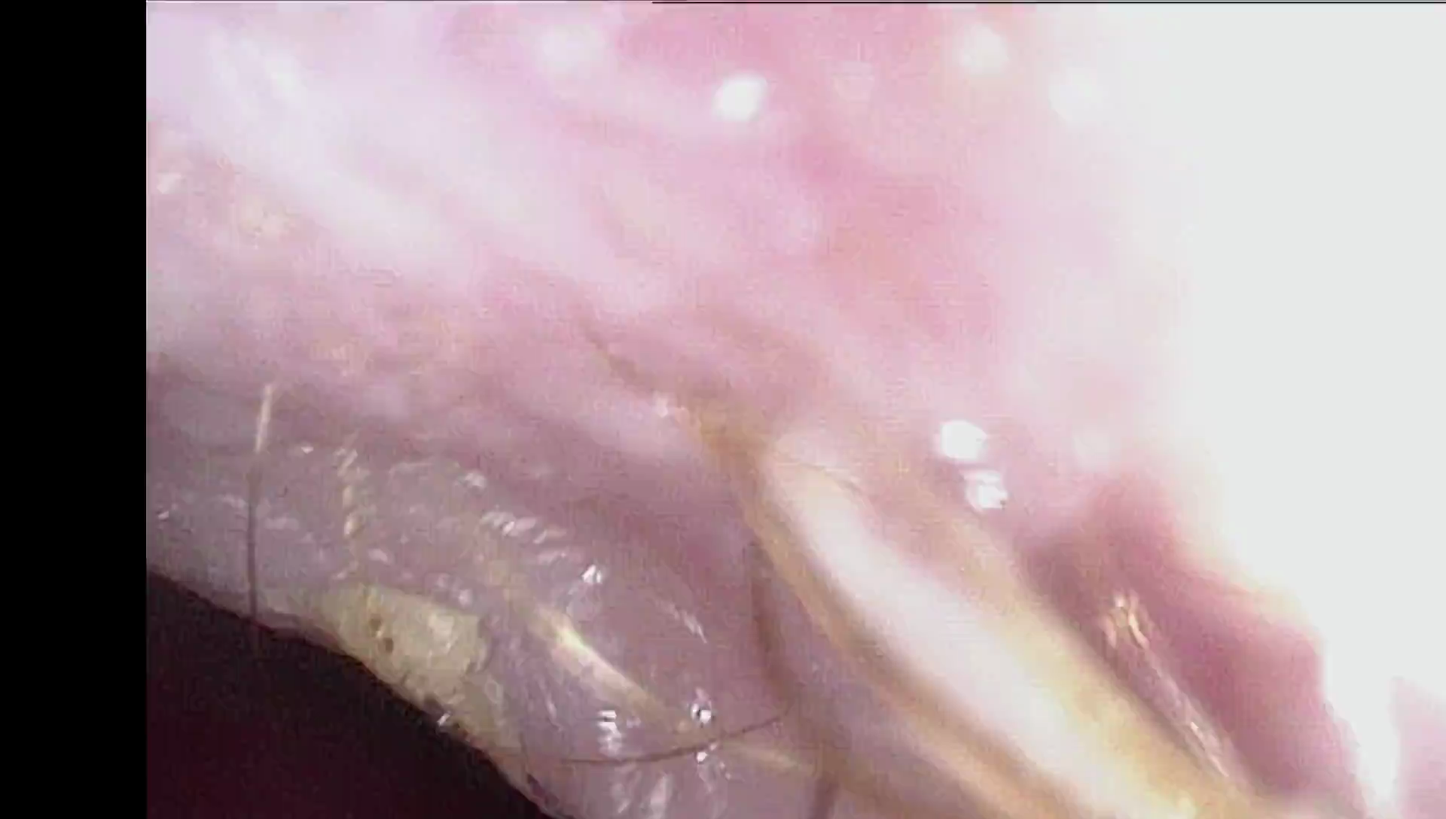close_wall: (157, 0, 1446, 370), (1032, 0, 1446, 818)
next: (194, 619, 562, 819)
